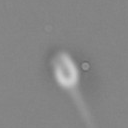normal: (65, 86, 96, 128)
